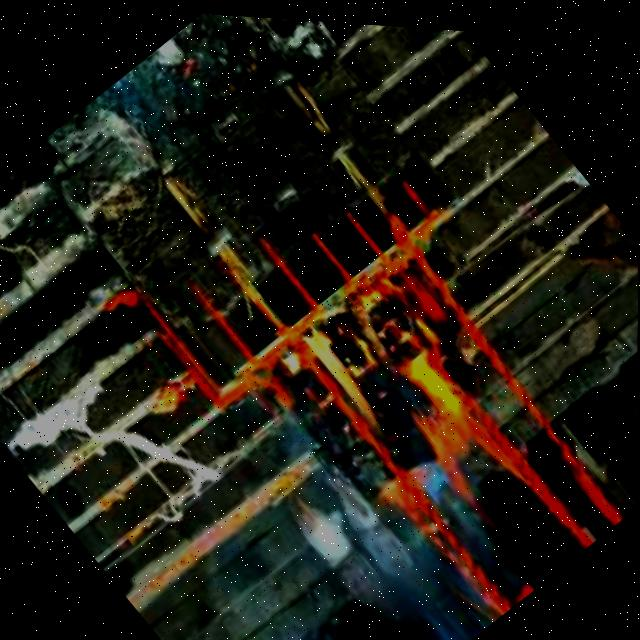Fire: (288, 271, 513, 517)
